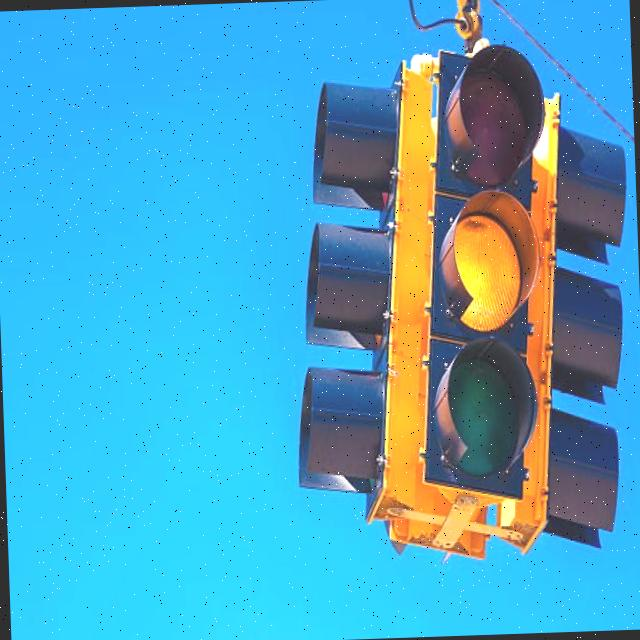yellow_light: (422, 32, 550, 514)
